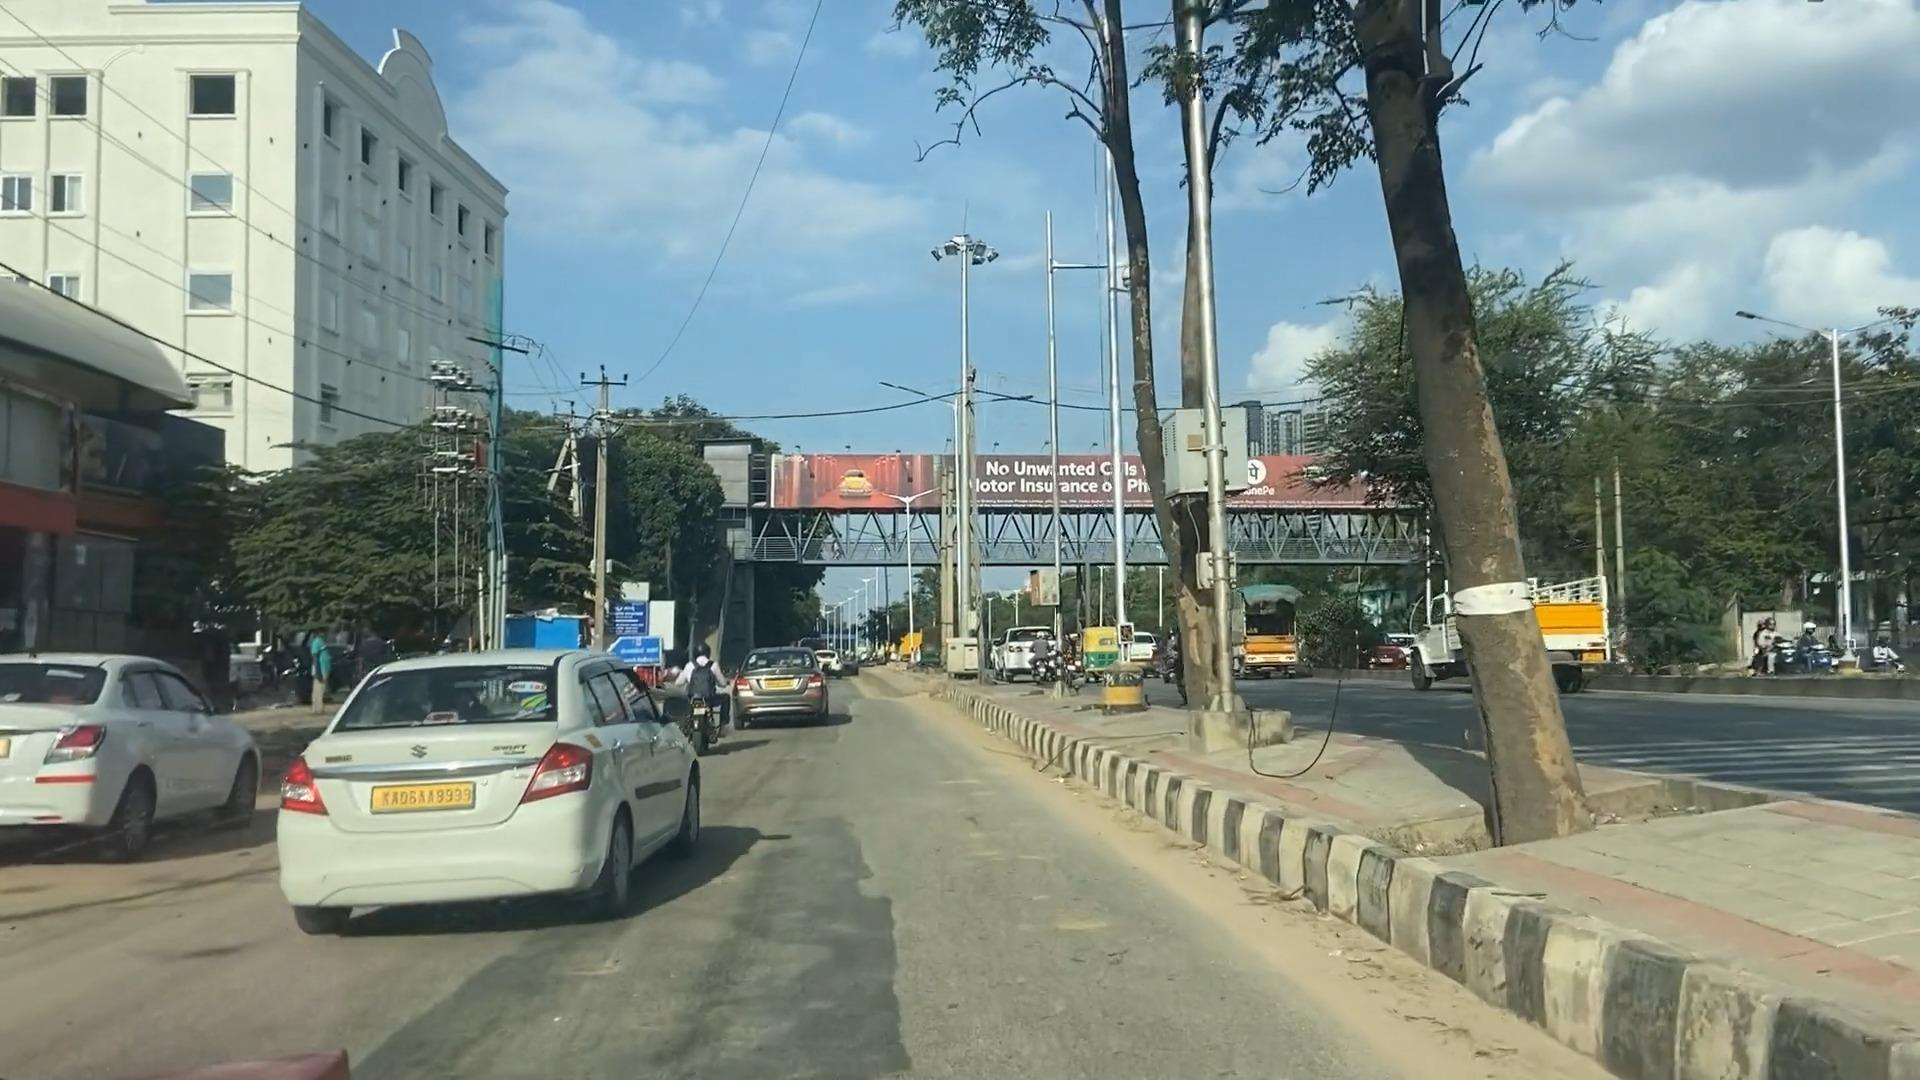LMV: (274, 638, 657, 949), (676, 640, 723, 754)
UnsurfacedRoad: (591, 901, 920, 1059)
